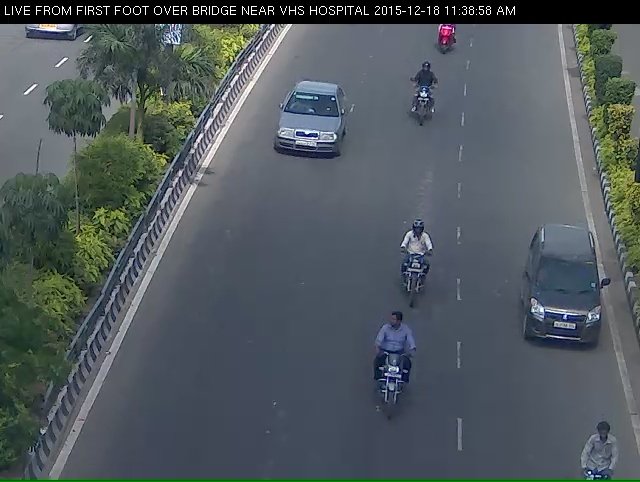Car: (524, 227, 614, 367), (273, 87, 348, 173)
Person: (389, 230, 455, 325), (366, 354, 414, 441), (402, 74, 443, 141)
